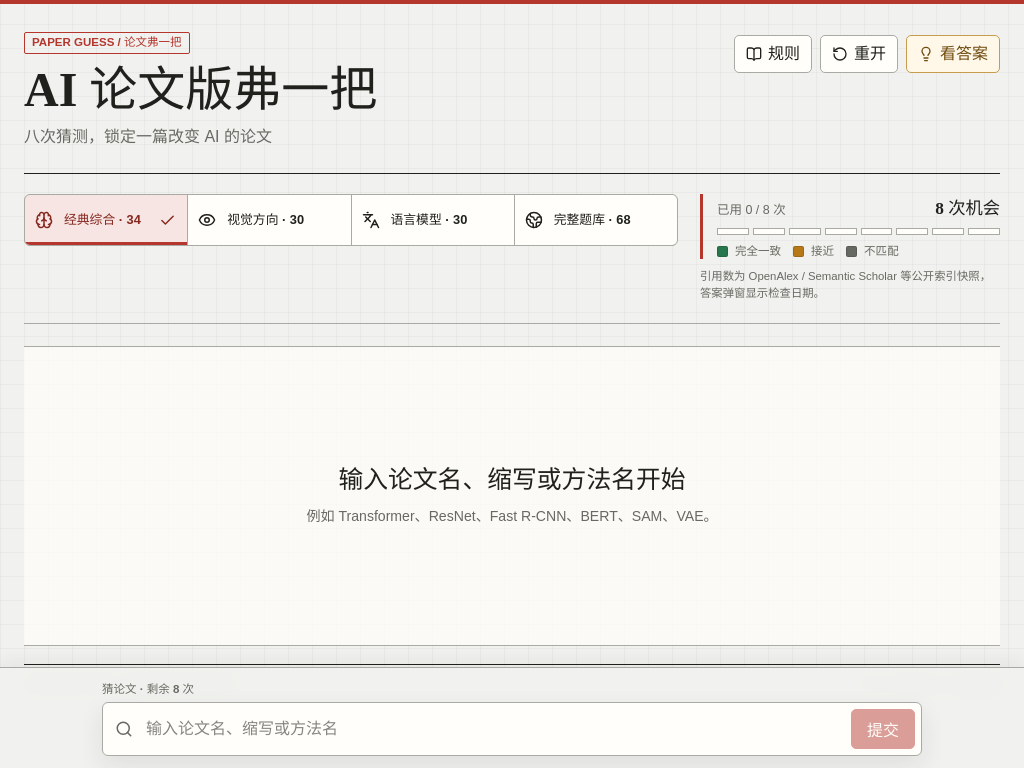
Test: GamePage › keeps the best streak but resets the current streak after a later loss
Step 1. Type "Transformer" into the dropdown → (493, 729), box [144,719,842,739]
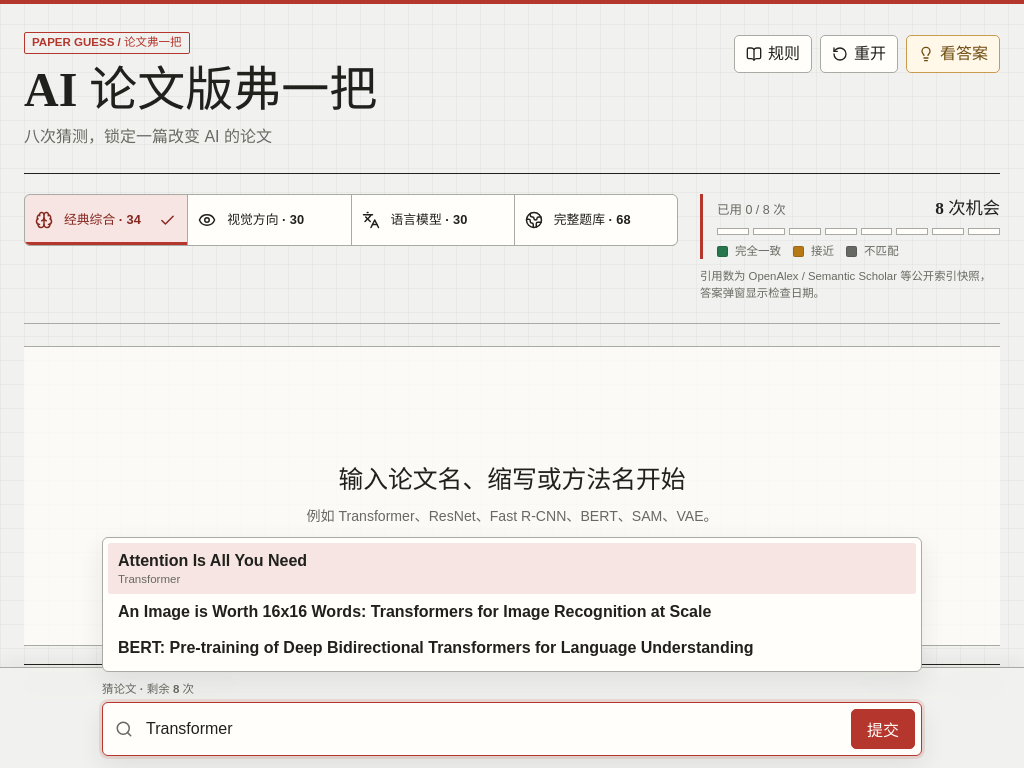
Step 2. Click the option "Attention Is All You Need Transformer" → (213, 560), box [108,543,916,594]
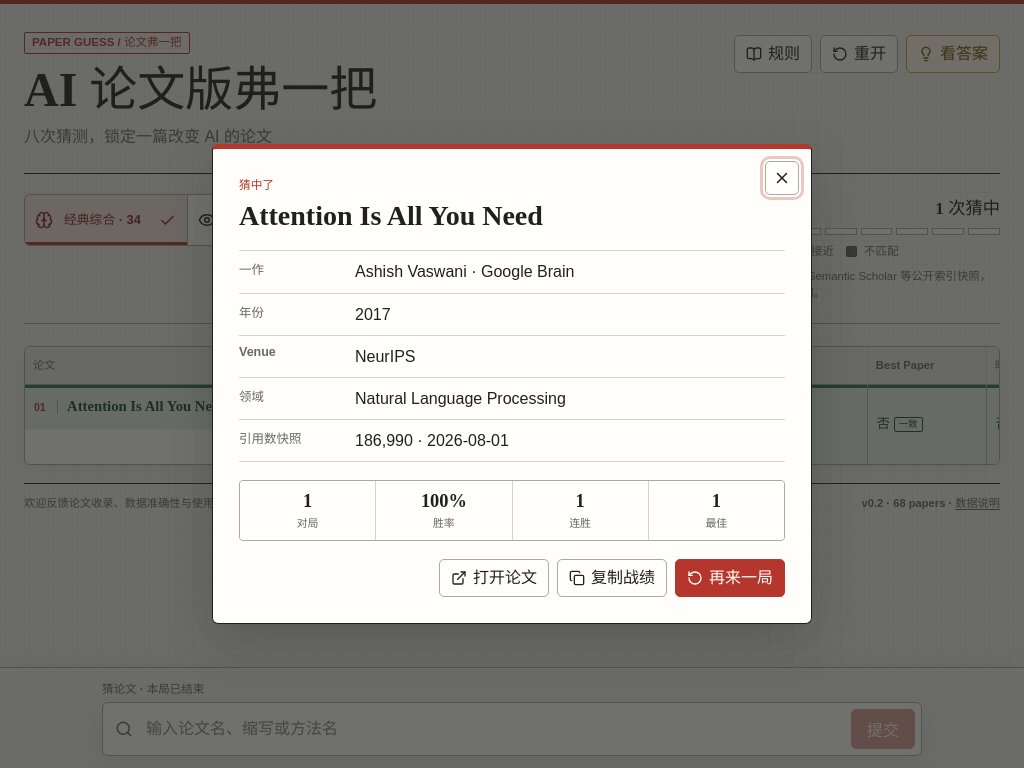
Step 3. Click the button "再来一局" → (730, 578), box [675,559,785,597]
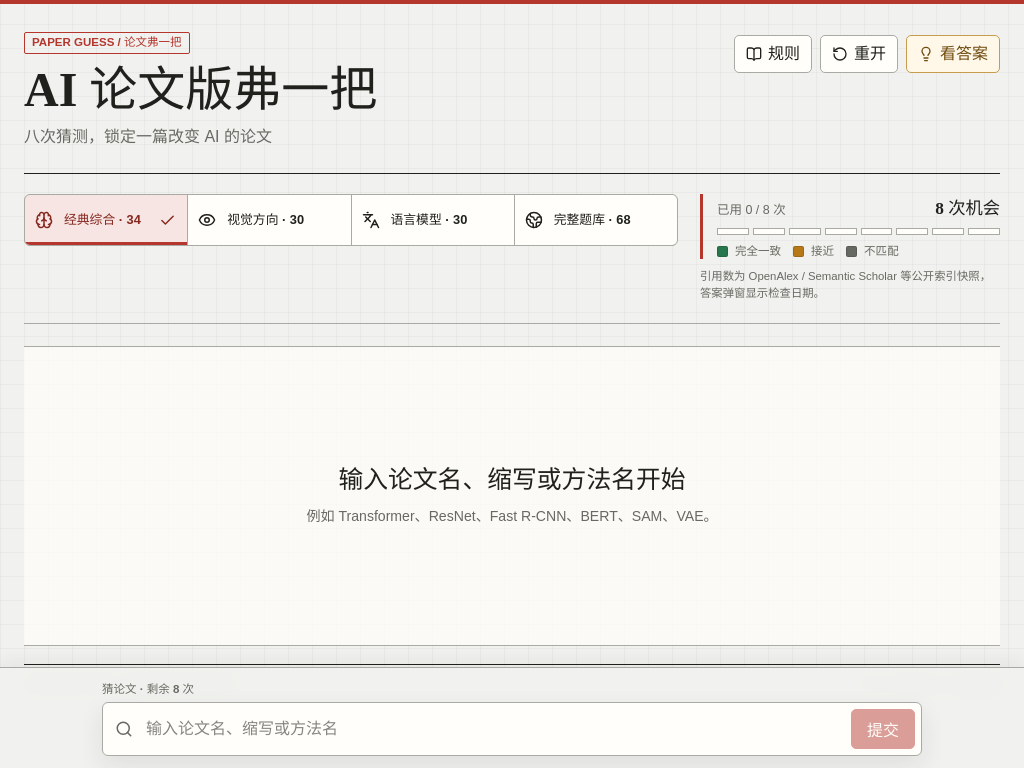
Step 4. Click the button "看答案" → (953, 54), box [906,35,1000,73]
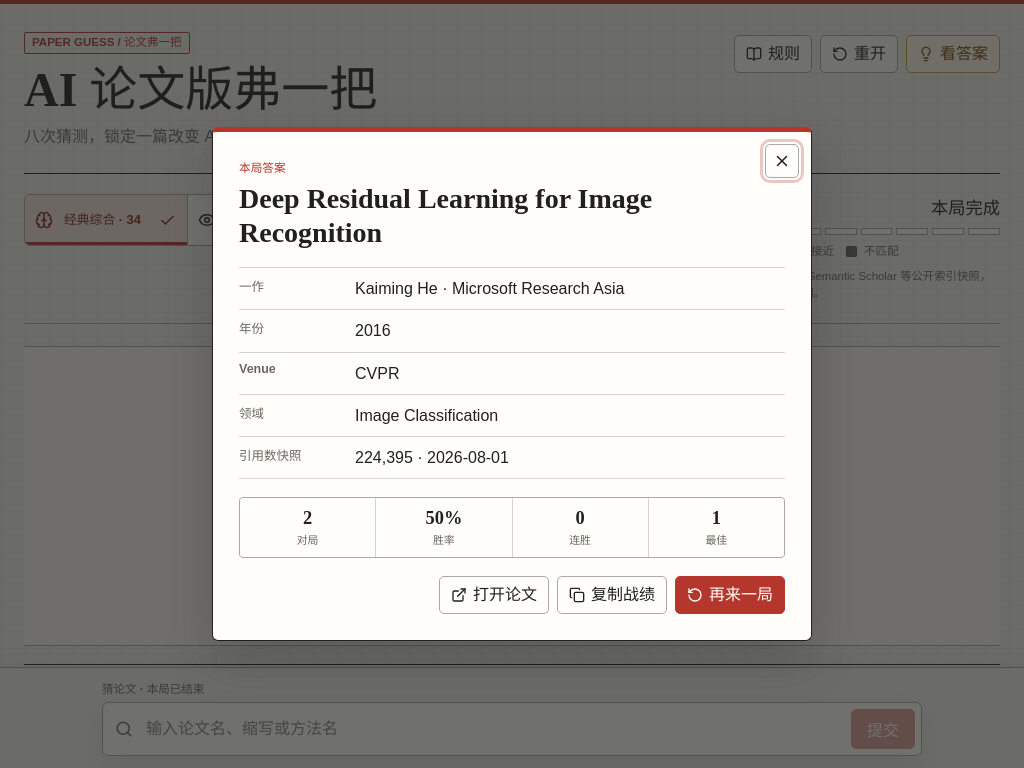
Expected: the element labelled "连胜 0" is shown, [512,498,648,557]
Expected: the element labelled "最佳 1" is shown, [649,498,784,557]
